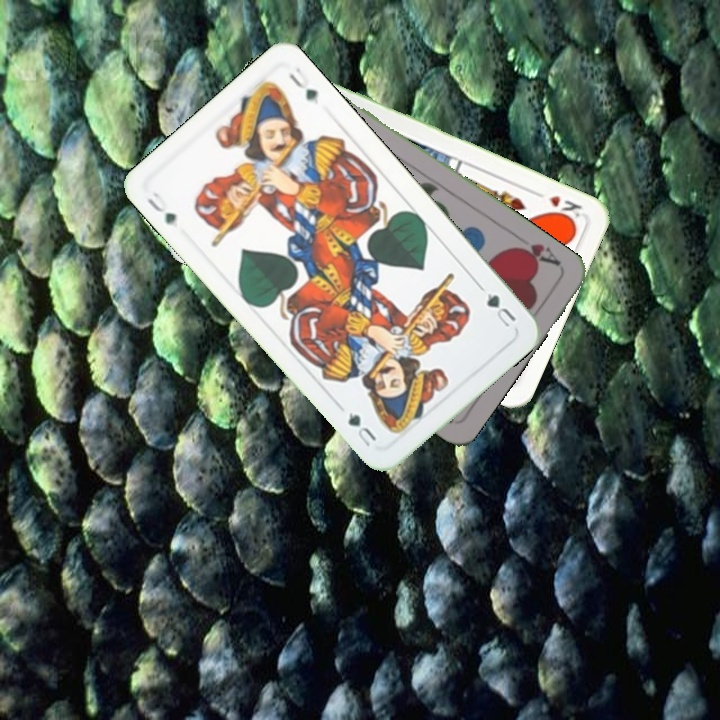GU: (482, 288, 519, 331), (143, 188, 179, 229)
HA: (507, 231, 564, 271)
HK: (529, 187, 585, 220)
